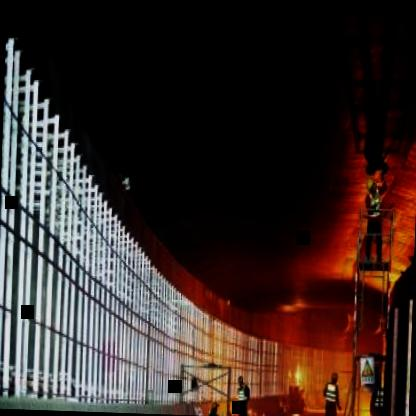helmet: (328, 370, 340, 387), (364, 178, 378, 192)
